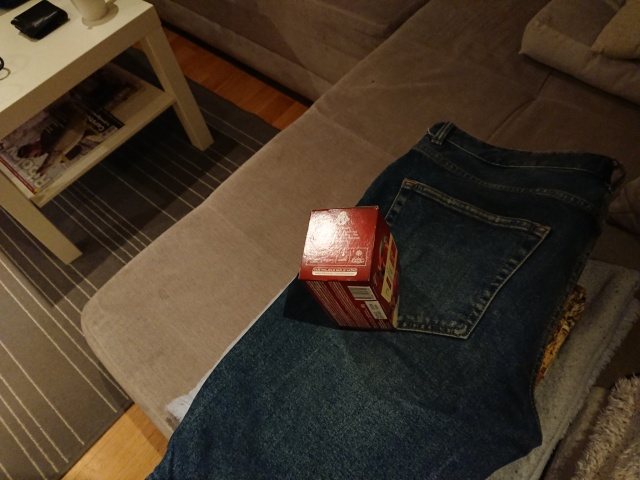Franck Apple Cinnamon Tea 60g: (296, 202, 404, 333)
